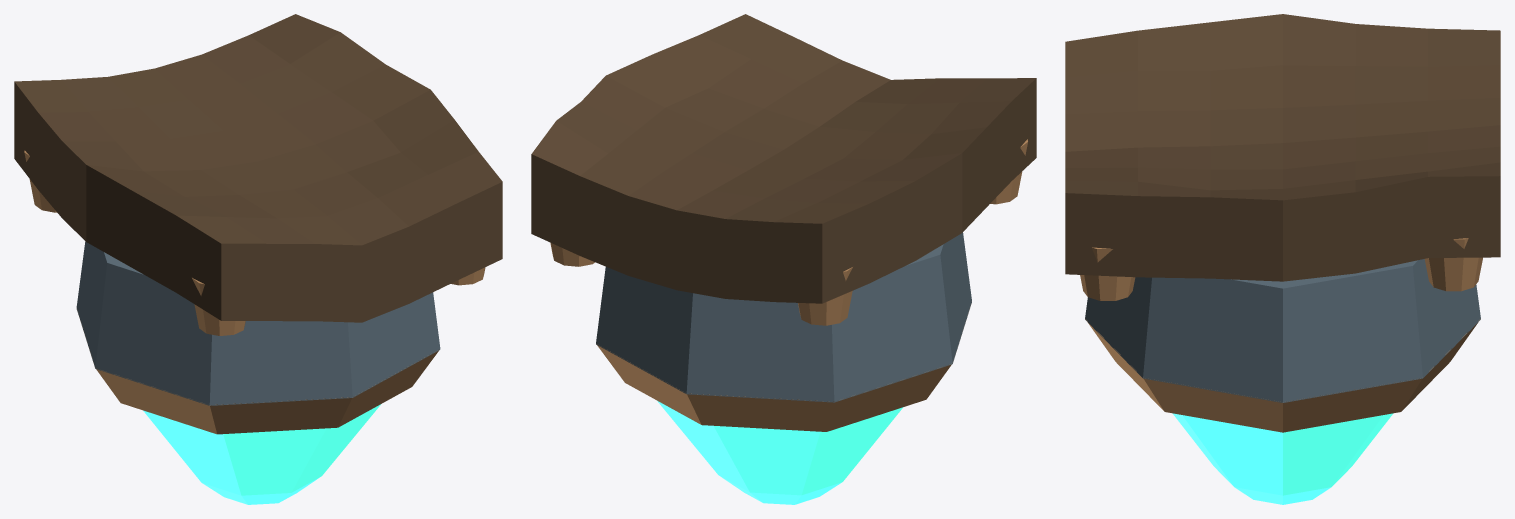
The model's file is cipher-casting-focus.glb.
3 views of the same model, side by side, from view 1: azimuth 30°, elevation 25°; view 2: azimuth 150°, elevation 25°; view 3: azimuth 270°, elevation 25° (orthographic). The views are drawn at different scales.
Visible parts, largest first — view 1: Contoured leather glove saddle, Octagonal focus housing, Quartz core, Machined bronze rim, Bronze rivet, Quartz crown; view 2: Contoured leather glove saddle, Octagonal focus housing, Quartz core, Machined bronze rim, Bronze rivet.001, Quartz crown; view 3: Contoured leather glove saddle, Octagonal focus housing, Quartz core, Machined bronze rim, Bronze rivet.003, Bronze rivet.002, Quartz crown.
Part boxes in pixels (x1=…): Contoured leather glove saddle: x1=14, y1=14, x2=502, y2=322; Octagonal focus housing: x1=76, y1=241, x2=440, y2=405; Quartz core: x1=143, y1=404, x2=380, y2=495; Machined bronze rim: x1=96, y1=350, x2=438, y2=434; Bronze rivet: x1=192, y1=278, x2=245, y2=335; Quartz crown: x1=202, y1=477, x2=319, y2=504; Contoured leather glove saddle: x1=531, y1=14, x2=1036, y2=303; Octagonal focus housing: x1=596, y1=232, x2=971, y2=402; Quartz core: x1=657, y1=400, x2=903, y2=495; Machined bronze rim: x1=597, y1=345, x2=951, y2=431; Bronze rivet.001: x1=798, y1=267, x2=852, y2=325; Quartz crown: x1=720, y1=476, x2=841, y2=504; Contoured leather glove saddle: x1=1065, y1=14, x2=1500, y2=281; Octagonal focus housing: x1=1085, y1=259, x2=1480, y2=402; Quartz core: x1=1172, y1=413, x2=1393, y2=495; Machined bronze rim: x1=1085, y1=319, x2=1480, y2=432; Bronze rivet.003: x1=1424, y1=238, x2=1482, y2=291; Bronze rivet.002: x1=1080, y1=247, x2=1135, y2=300; Quartz crown: x1=1234, y1=487, x2=1331, y2=504.
Size of the model in its own units: 0.0358 by 0.0366 by 0.0372.
